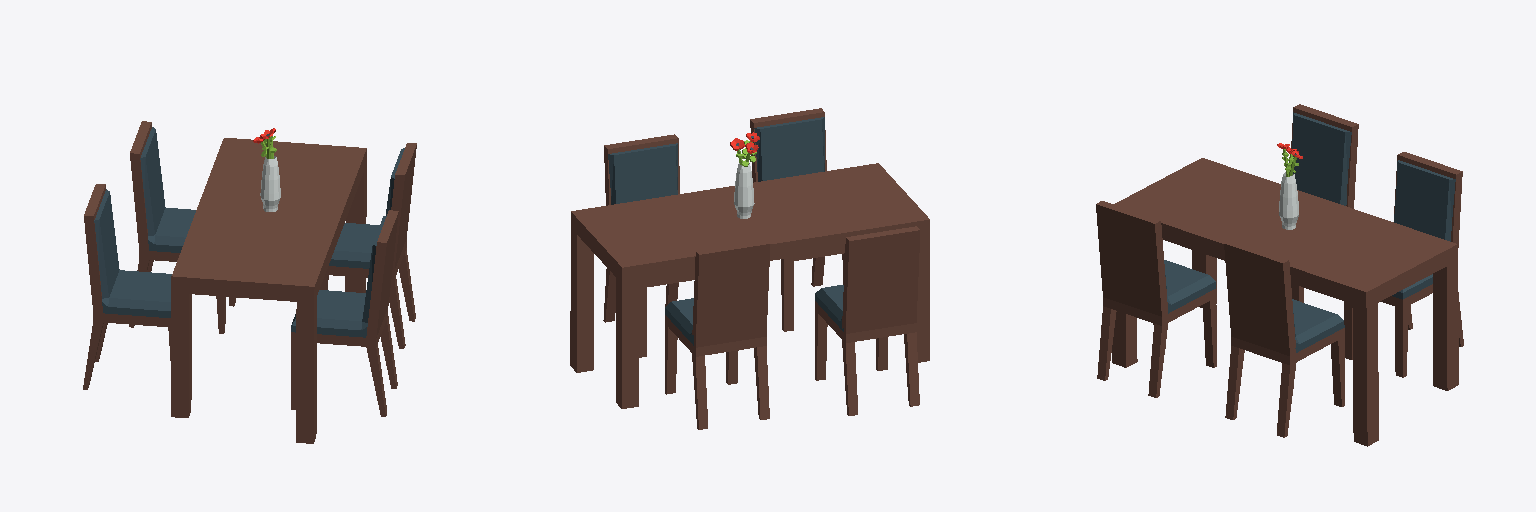
The picture shows the model from 3 angles: view 1: azimuth 30°, elevation 25°; view 2: azimuth 150°, elevation 25°; view 3: azimuth 270°, elevation 25°; orthographic projection.
Parts seen in each view (by area): view 1: group[number redacted], group[number redacted], group[number redacted], group[number redacted], group[number redacted], group[number redacted], group[number redacted], group[number redacted], group[number redacted], group[number redacted], group[number redacted], group[number redacted] (+8 smaller); view 2: group[number redacted], group[number redacted], group[number redacted], group[number redacted], group[number redacted], group[number redacted], group[number redacted], group[number redacted], group[number redacted], group[number redacted], group[number redacted], group[number redacted] (+12 smaller); view 3: group[number redacted], group[number redacted], group[number redacted], group[number redacted], group[number redacted], group[number redacted], group[number redacted], group[number redacted], group[number redacted], group[number redacted], group[number redacted], group[number redacted] (+11 smaller).
Boxes of the visible parts, box(x1,y1,x2,y2) form: group[number redacted]: box(171, 138, 366, 302); group[number redacted]: box(94, 189, 171, 317); group[number redacted]: box(140, 127, 195, 252); group[number redacted]: box(296, 298, 316, 443); group[number redacted]: box(291, 216, 386, 337); group[number redacted]: box(171, 293, 191, 417); group[number redacted]: box(366, 210, 398, 337); group[number redacted]: box(329, 148, 404, 268); group[number redacted]: box(391, 143, 416, 270); group[number redacted]: box(130, 121, 151, 250); group[number redacted]: box(84, 184, 105, 312); group[number redacted]: box(345, 165, 366, 292); group[number redacted]: box(571, 163, 929, 283); group[number redacted]: box(842, 226, 919, 333); group[number redacted]: box(692, 240, 769, 347); group[number redacted]: box(754, 117, 824, 181); group[number redacted]: box(608, 143, 677, 204); group[number redacted]: box(570, 229, 593, 372); group[number redacted]: box(616, 278, 638, 408); group[number redacted]: box(917, 236, 929, 362); group[number redacted]: box(604, 134, 679, 205); group[number redacted]: box(815, 301, 916, 342); group[number redacted]: box(665, 315, 766, 356); group[number redacted]: box(734, 163, 754, 218); group[number redacted]: box(1114, 158, 1457, 308); group[number redacted]: box(1096, 201, 1167, 316); group[number redacted]: box(1224, 240, 1295, 355); group[number redacted]: box(1292, 112, 1351, 205); group[number redacted]: box(1392, 160, 1455, 299); group[number redacted]: box(1352, 303, 1378, 446); group[number redacted]: box(1433, 261, 1458, 390); group[number redacted]: box(1292, 299, 1344, 352); group[number redacted]: box(1164, 260, 1215, 313); group[number redacted]: box(1291, 104, 1358, 208); group[number redacted]: box(1112, 311, 1137, 367); group[number redacted]: box(1394, 152, 1462, 247).
Size of the model in its own units: 0.0608 by 0.0429 by 0.0596.